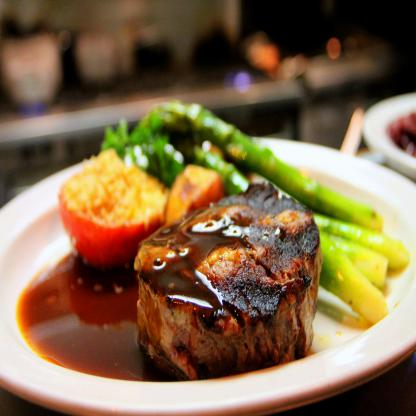Carne: (133, 180, 319, 373)
